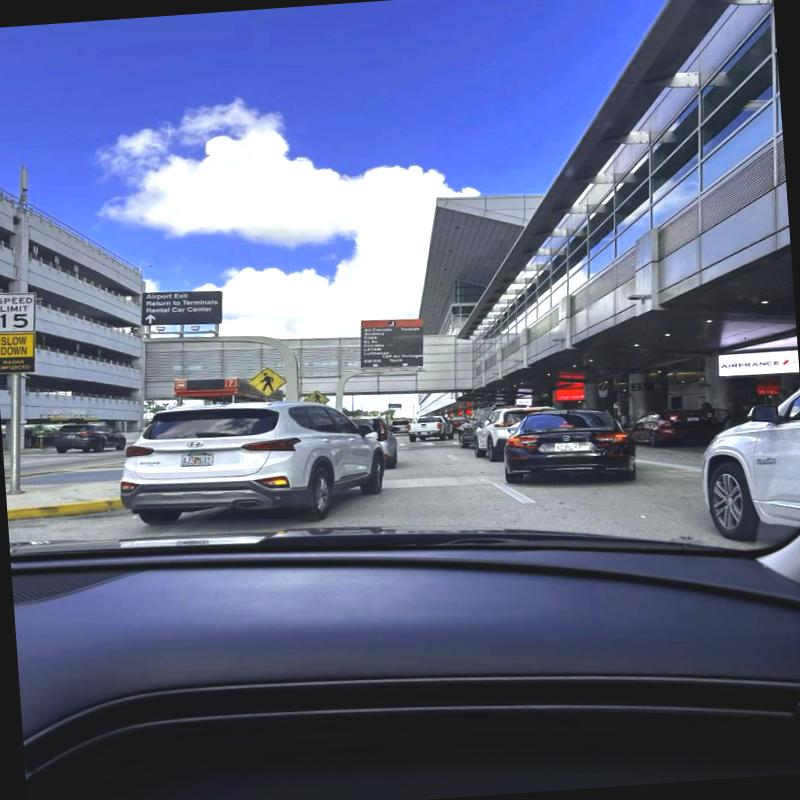license plate on a car: (181, 453, 212, 466), (556, 443, 578, 451)
